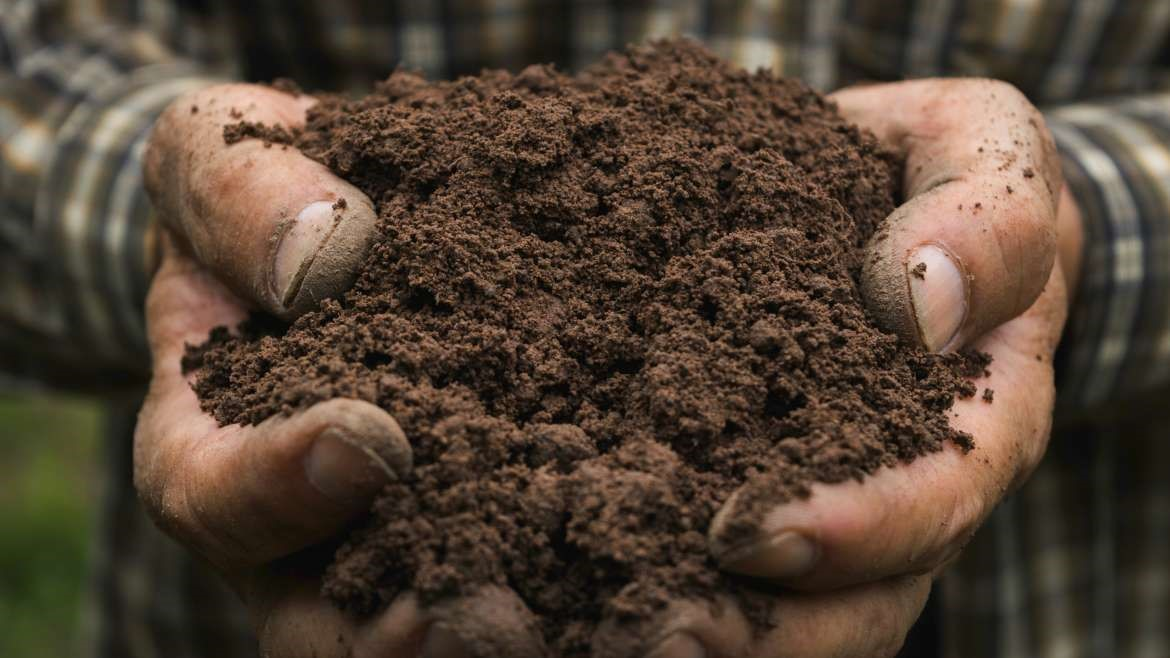dirt: (200, 46, 965, 603)
